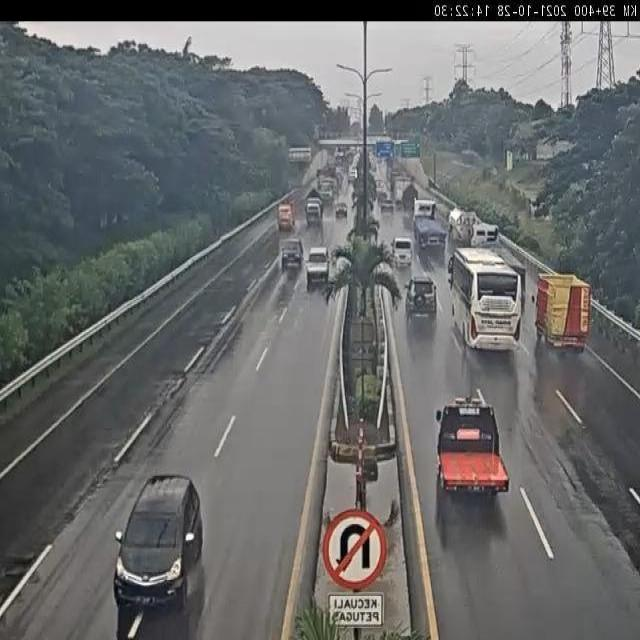Bus: (445, 247, 522, 352)
Car: (95, 458, 228, 625), (396, 274, 444, 328), (277, 232, 305, 270)
Truck: (427, 376, 523, 509), (533, 267, 593, 359), (452, 200, 499, 248), (408, 202, 449, 256), (314, 166, 338, 208), (302, 184, 326, 224), (274, 200, 296, 236)
Van: (302, 240, 336, 290), (389, 233, 418, 269)
